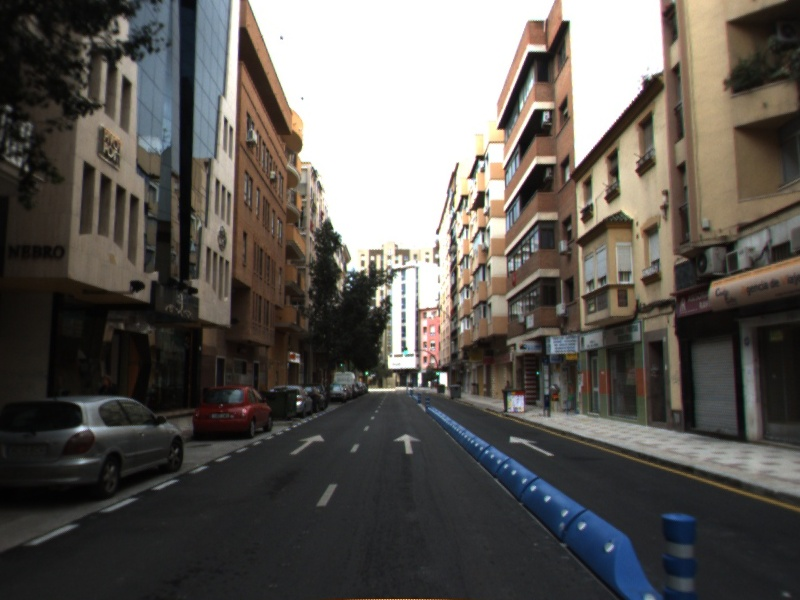STRAIGHT: (508, 434, 556, 458), (288, 433, 326, 457), (392, 432, 423, 455)
